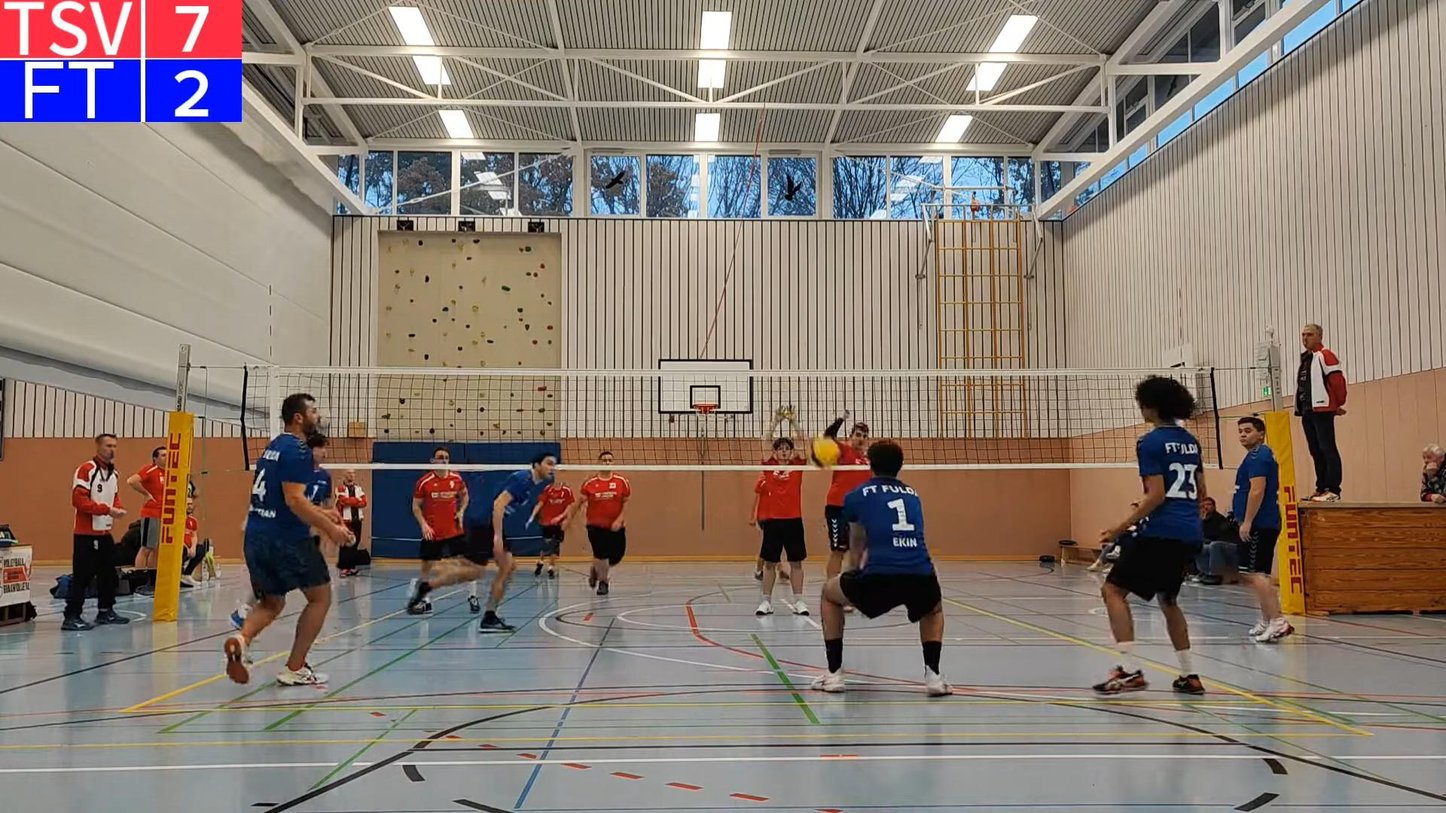Player: (224, 393, 349, 684), (1094, 376, 1204, 693), (408, 453, 556, 632), (1232, 416, 1293, 642), (754, 437, 808, 615), (413, 446, 468, 580), (581, 451, 630, 595), (825, 469, 870, 577), (530, 482, 577, 578), (307, 431, 339, 521), (306, 432, 331, 513)
Receive: (805, 442, 955, 700)
Set: (809, 436, 839, 467)
